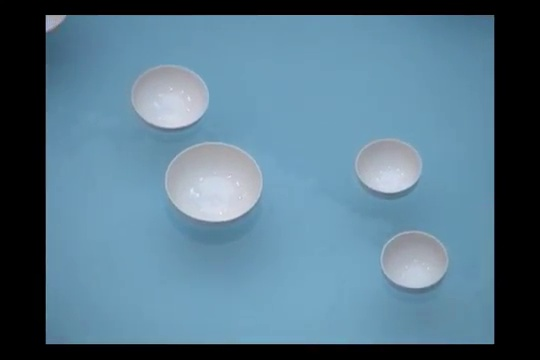bowl: (163, 141, 263, 230), (130, 64, 208, 133), (380, 230, 448, 296), (353, 138, 422, 201)
